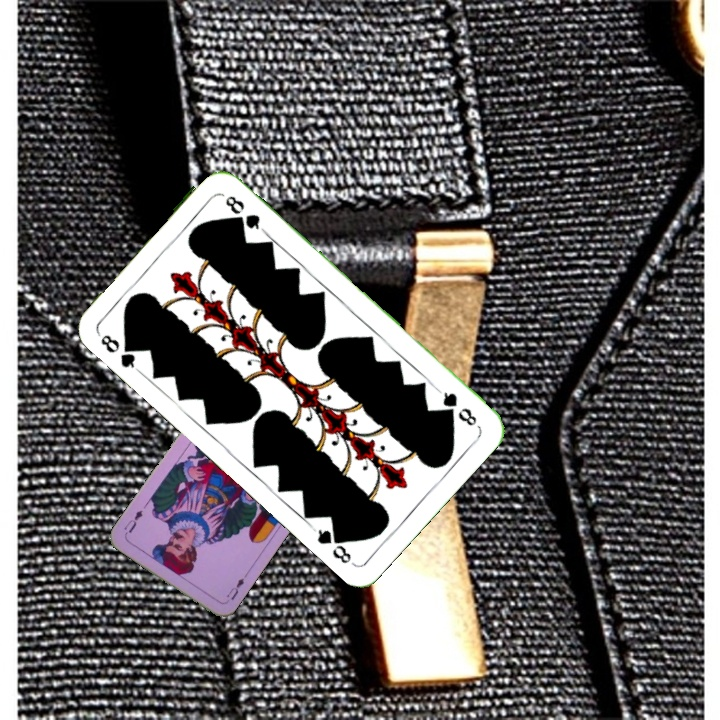EU: (221, 570, 250, 605)
G8: (433, 385, 480, 429), (97, 330, 141, 373)
